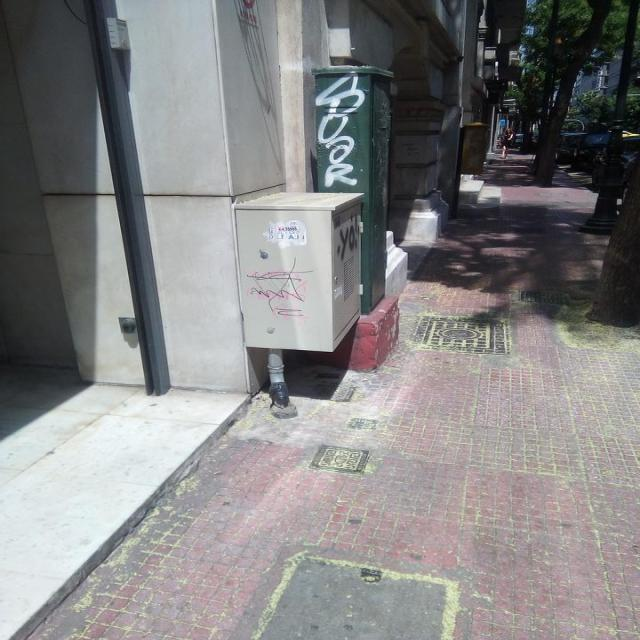nonspitting: (316, 70, 365, 188), (247, 258, 311, 316), (338, 213, 359, 260)
